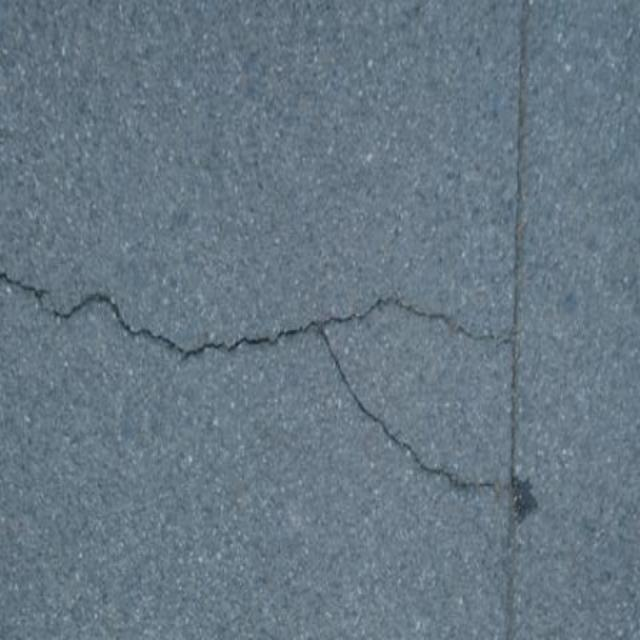GRIETA: (0, 272, 511, 358), (320, 329, 499, 489), (505, 0, 536, 639)
